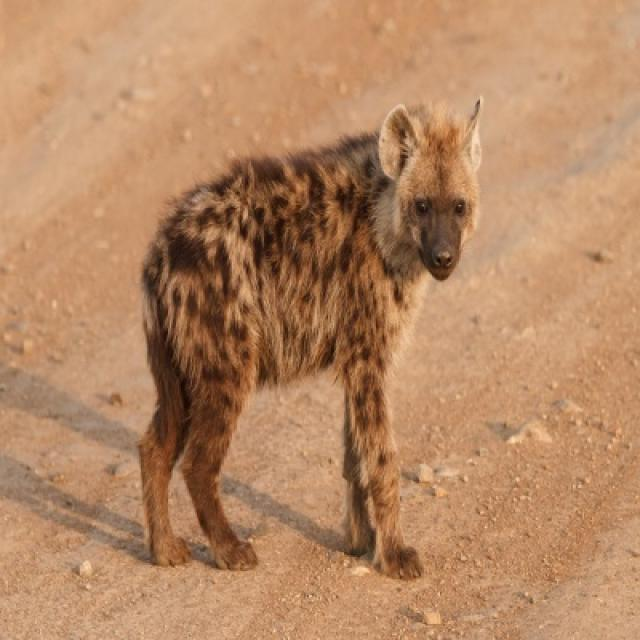hyena: (139, 99, 482, 576)
